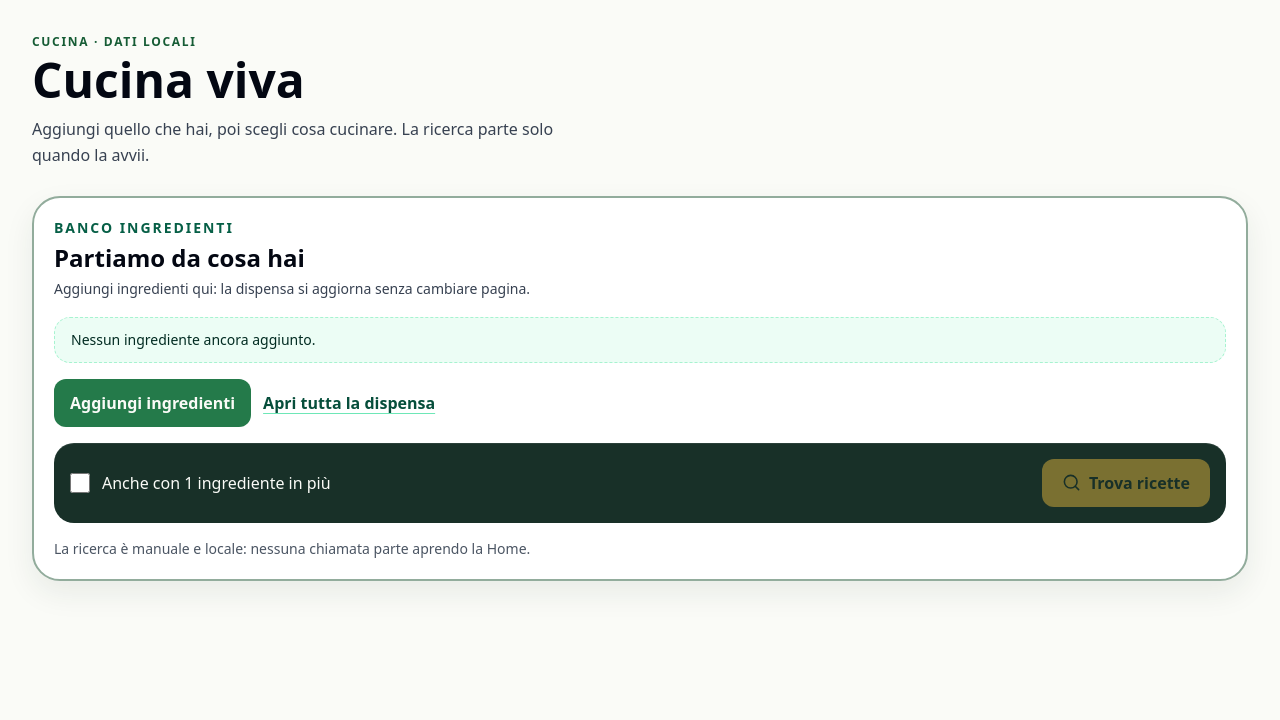
Test case: HomePage recipe search › adds ingredients from Home through the shared pantry store
The width and height of the screenshot is (1280, 720).
Step 1. Click the button "Aggiungi ingredienti" → (153, 403), box [54,379,251,427]
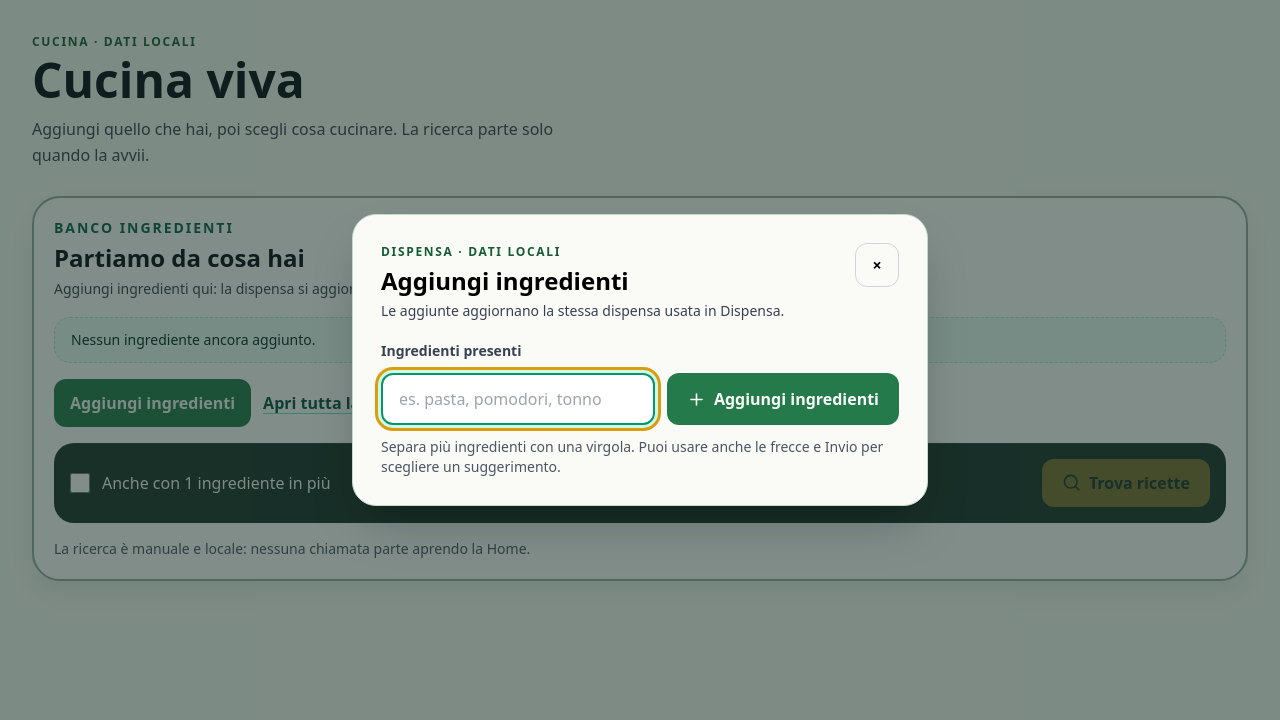
Step 2. Type "pomodoro, spezia speciale" into the dropdown labelled "Ingredienti presenti" → (518, 399), box [381,373,655,425]
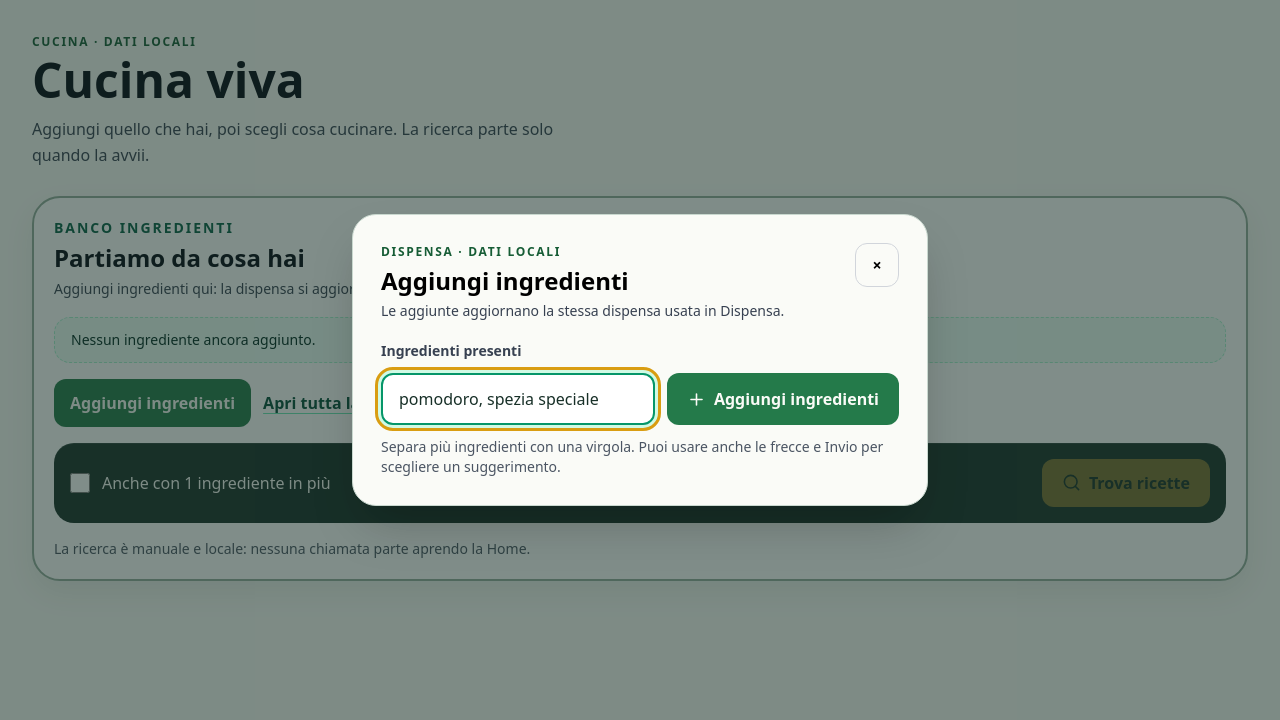
Step 3. Click the button "Aggiungi ingredienti" → (783, 399), box [667,373,899,425]
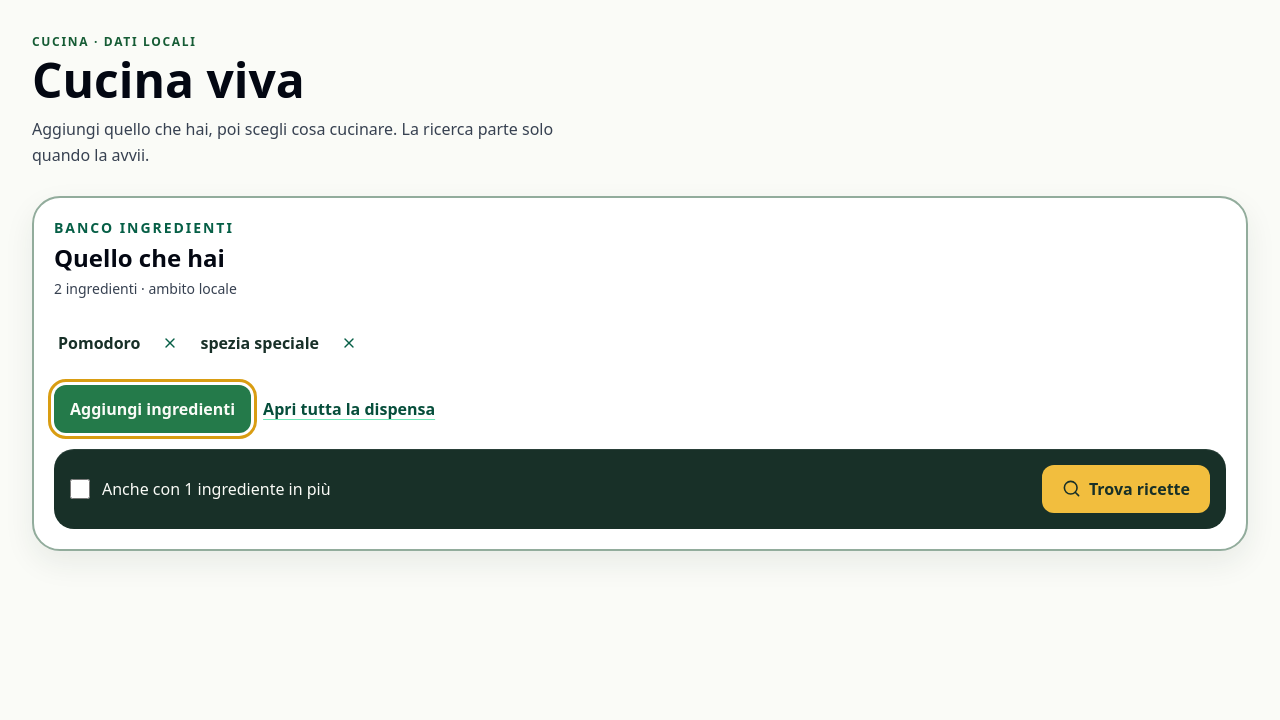
Result: the dialog is gone
Result: the text "Pomodoro" is shown at [58,331,140,355]
